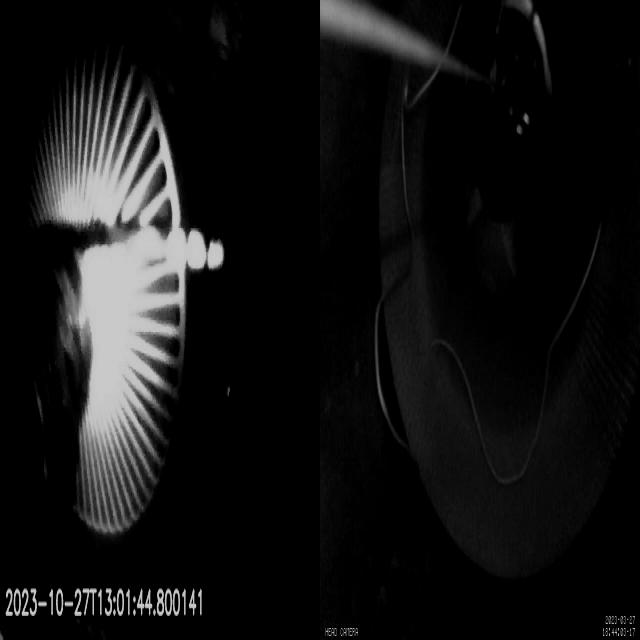white-dots: (167, 224, 226, 278)
